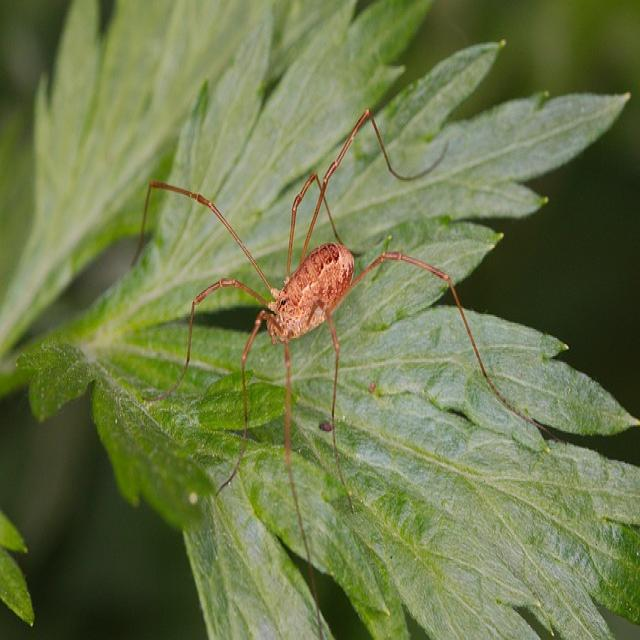spyder: (139, 109, 529, 562)
